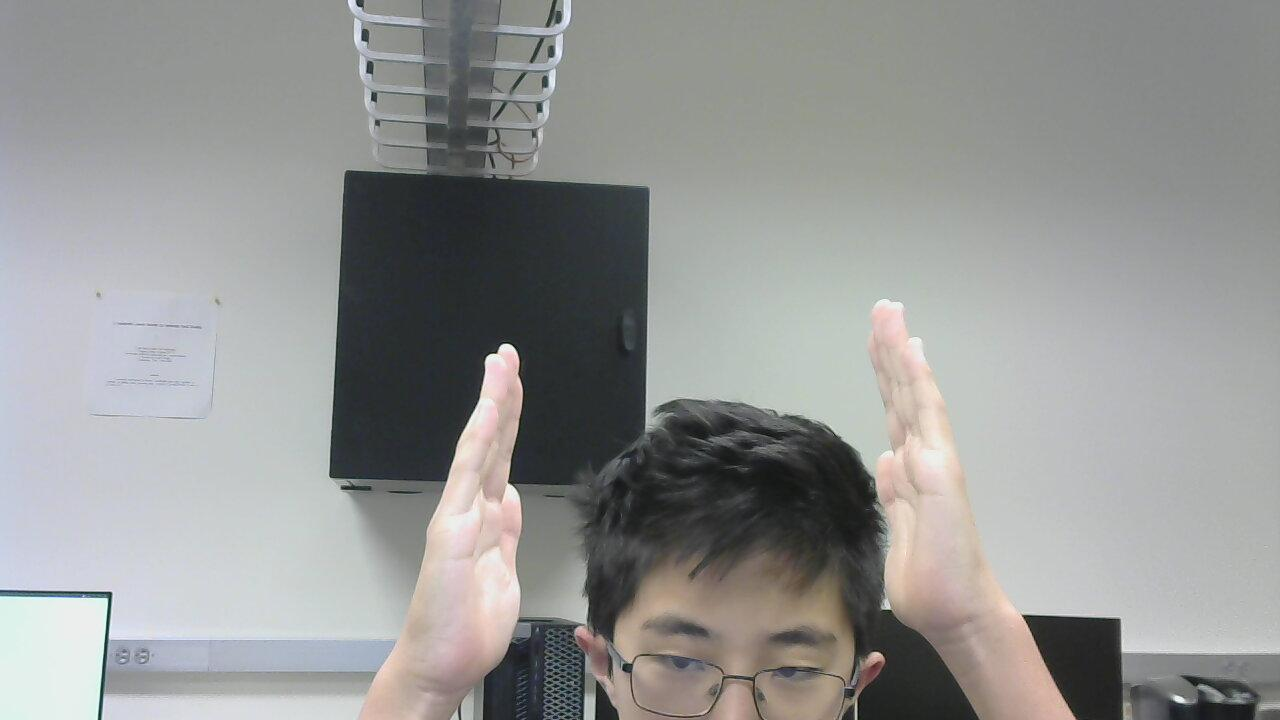hands: (858, 290, 1034, 650), (399, 334, 544, 683)
